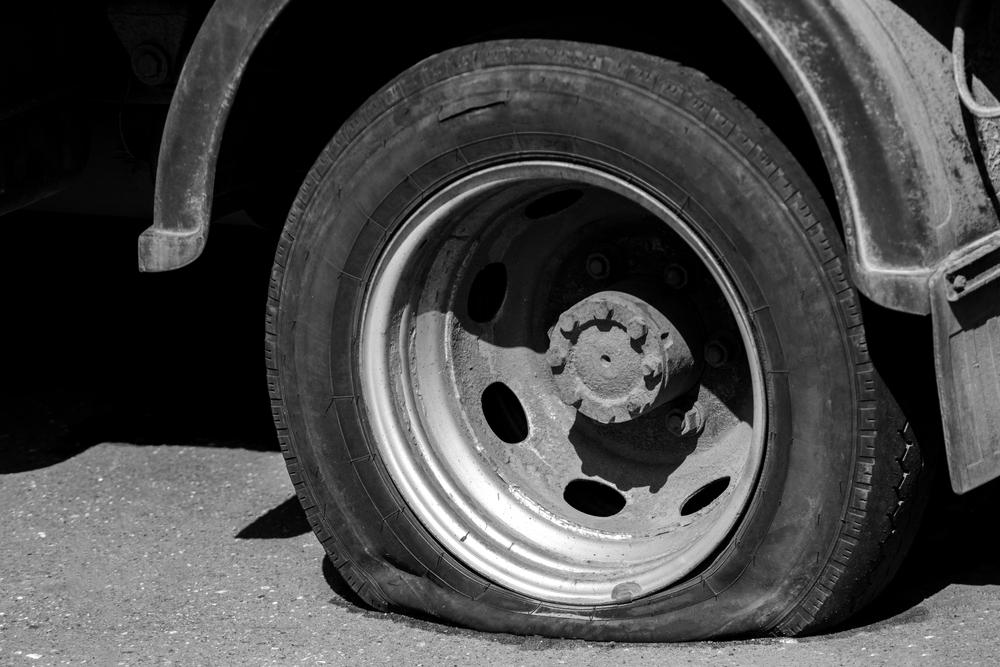tire flat: (265, 34, 924, 646)
